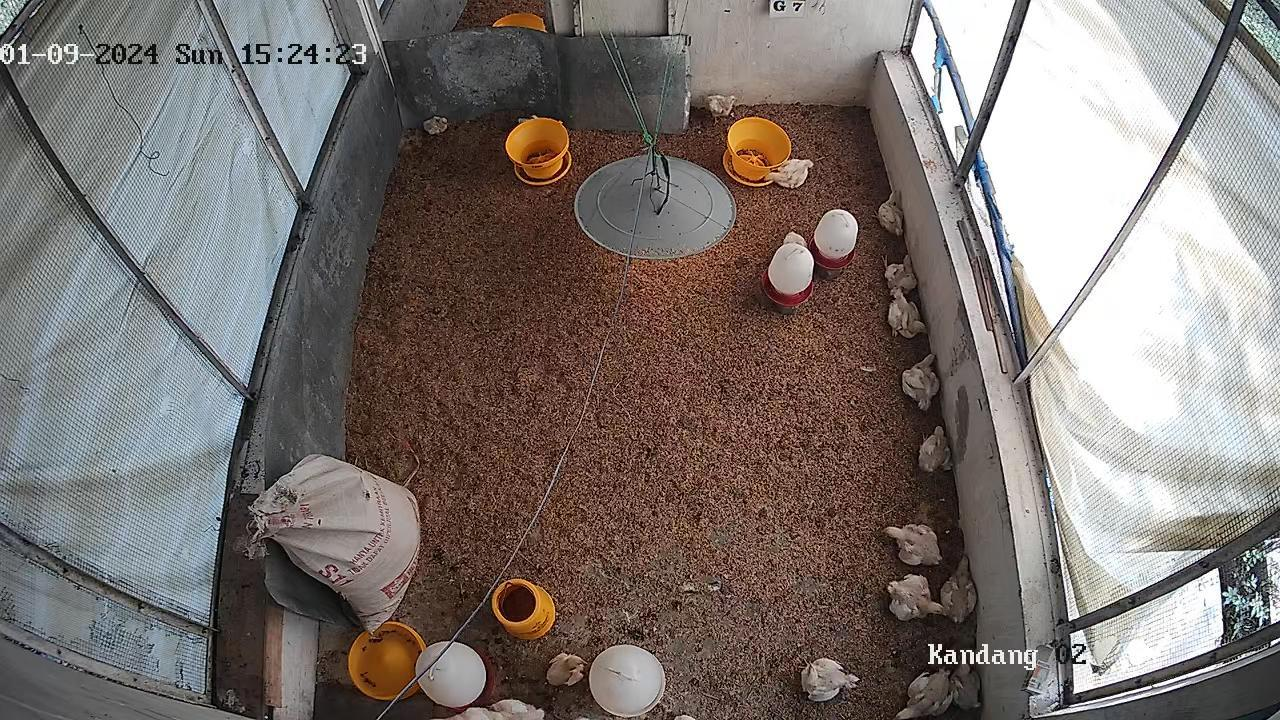chicken: (894, 667, 955, 720), (886, 572, 945, 622), (799, 656, 861, 703), (940, 554, 978, 625), (887, 522, 943, 568), (900, 350, 941, 412), (887, 287, 927, 340), (917, 424, 954, 473), (951, 654, 982, 711), (762, 157, 815, 190), (546, 651, 588, 688), (883, 253, 919, 296), (487, 697, 545, 720), (877, 189, 904, 238), (441, 705, 510, 720), (705, 93, 738, 118), (422, 114, 452, 136), (780, 228, 809, 249)
